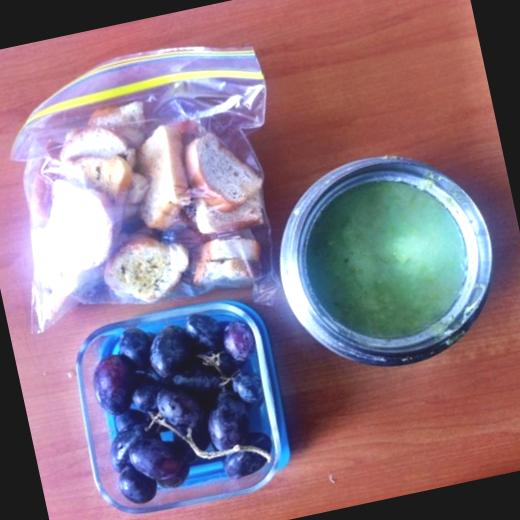Orange: (86, 306, 284, 508)
